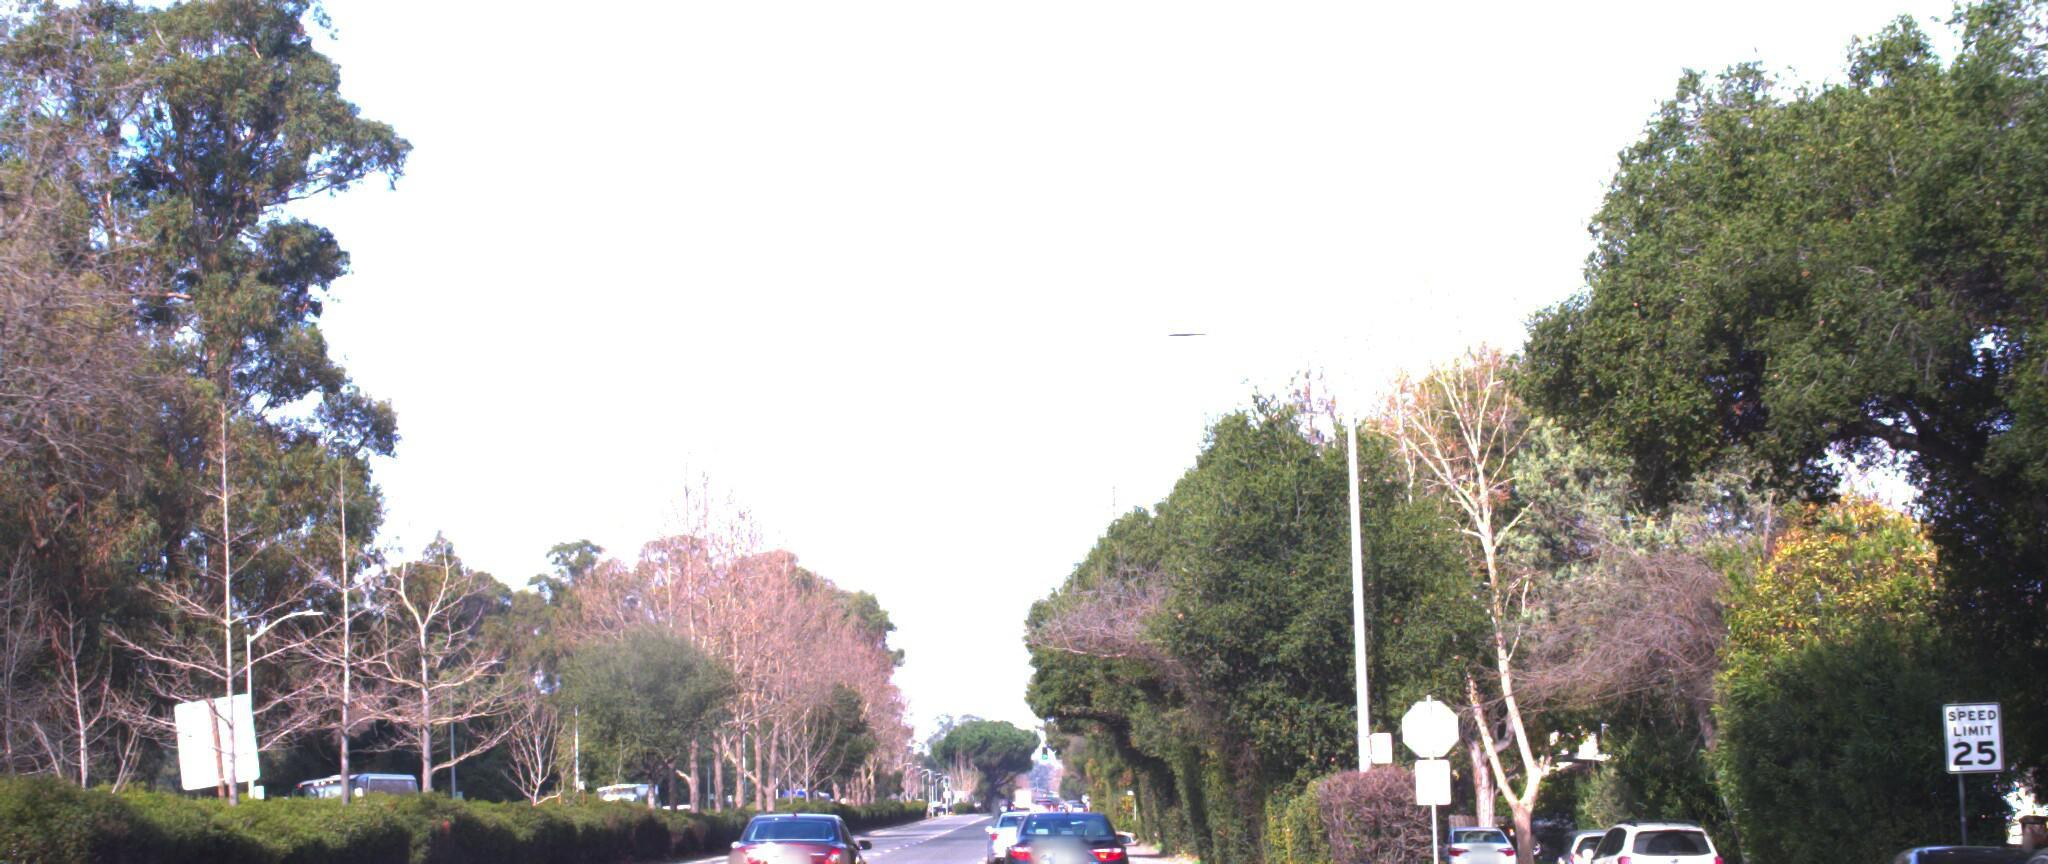car: (1809, 812, 2048, 864), (1557, 800, 1740, 864), (725, 790, 872, 864), (997, 782, 1123, 864), (1435, 804, 1539, 864), (1930, 816, 2048, 864)
